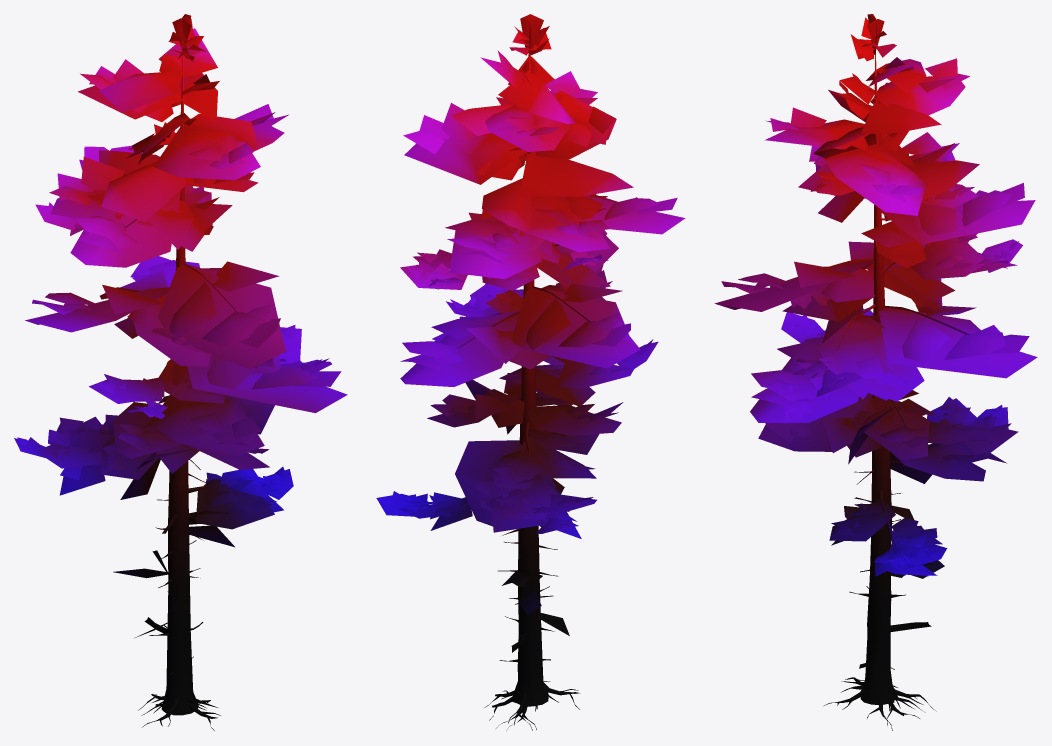
Rendered from Fir04.fbx.
3 views of the same model, side by side, from view 1: azimuth 30°, elevation 25°; view 2: azimuth 150°, elevation 25°; view 3: azimuth 270°, elevation 25° (orthographic).
Visible parts, largest first — view 1: Fir04_LOD0; view 2: Fir04_LOD0; view 3: Fir04_LOD0.
Part boxes in pixels (x1=…): Fir04_LOD0: x1=14, y1=14, x2=347, y2=730; Fir04_LOD0: x1=376, y1=14, x2=685, y2=730; Fir04_LOD0: x1=714, y1=14, x2=1037, y2=730.
Size of what is drawn, in the model's own units: 790 by 2008 by 841.
